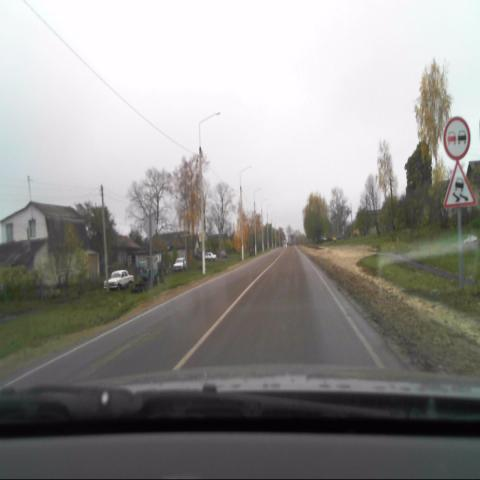1_15: (442, 163, 477, 212)
